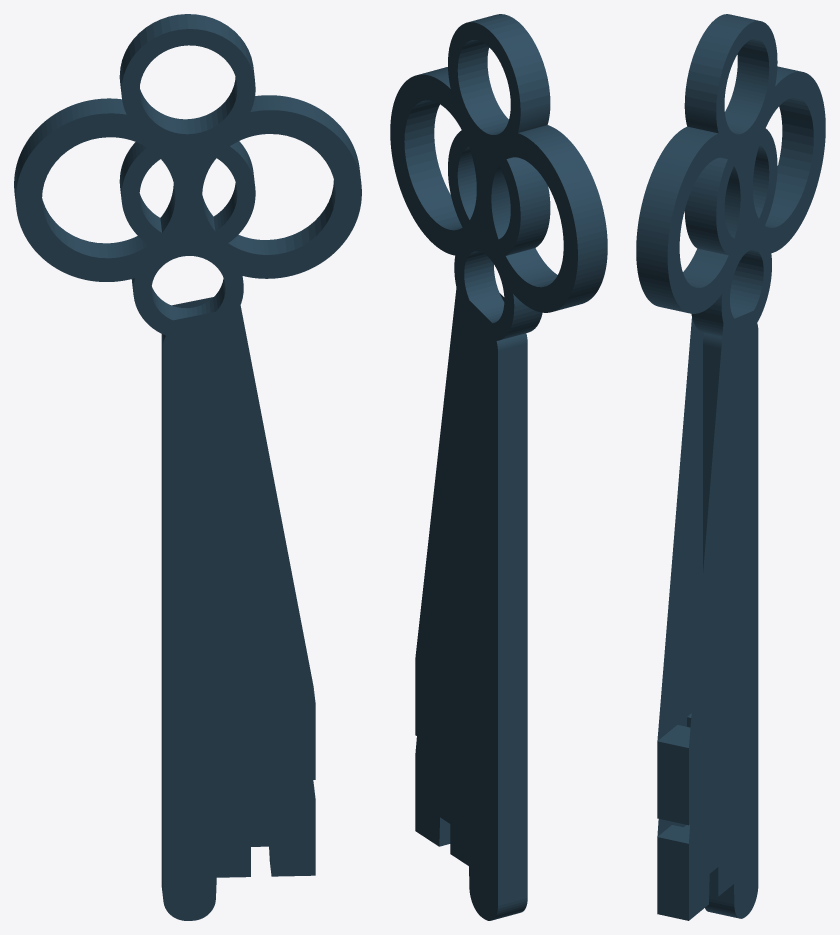
Rendered from 16_smokeKey.fbx.
3 views of the same model, side by side, from view 1: azimuth 30°, elevation 25°; view 2: azimuth 150°, elevation 25°; view 3: azimuth 270°, elevation 25° (orthographic).
Visible parts, largest first — view 1: Curve.008; view 2: Curve.008; view 3: Curve.008.
Part boxes in pixels (x1,y1,x2,y2): Curve.008: [14, 14, 361, 920]; Curve.008: [390, 14, 607, 920]; Curve.008: [636, 14, 825, 920].
Bounding box in the file's own units: 124 × 376 × 72.61.
